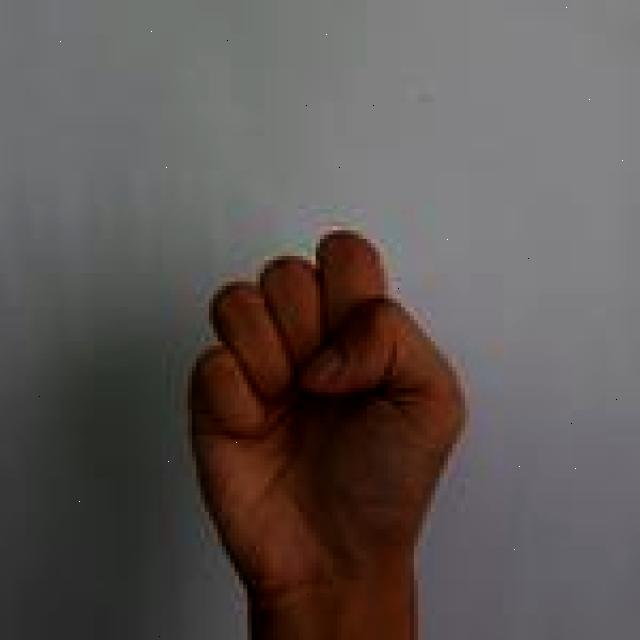S: (188, 222, 468, 640)
